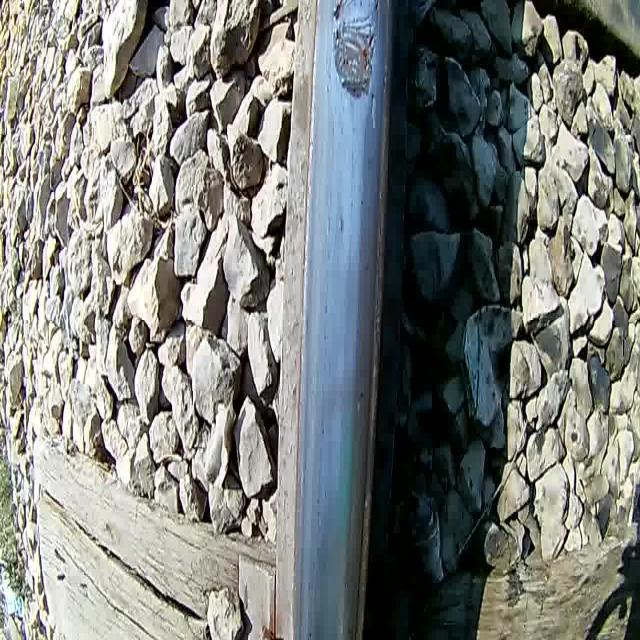Cracks: (366, 86, 380, 139)
Squats: (328, 0, 382, 107)
